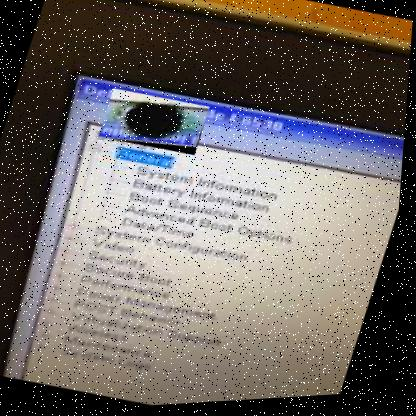spot: (99, 86, 214, 164)
